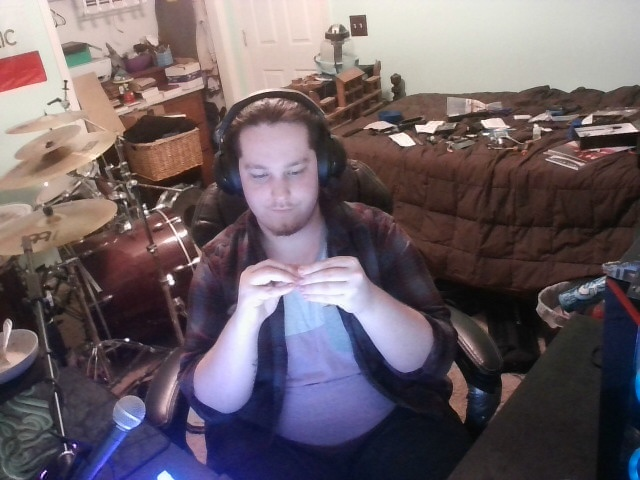more: (230, 253, 381, 335)
